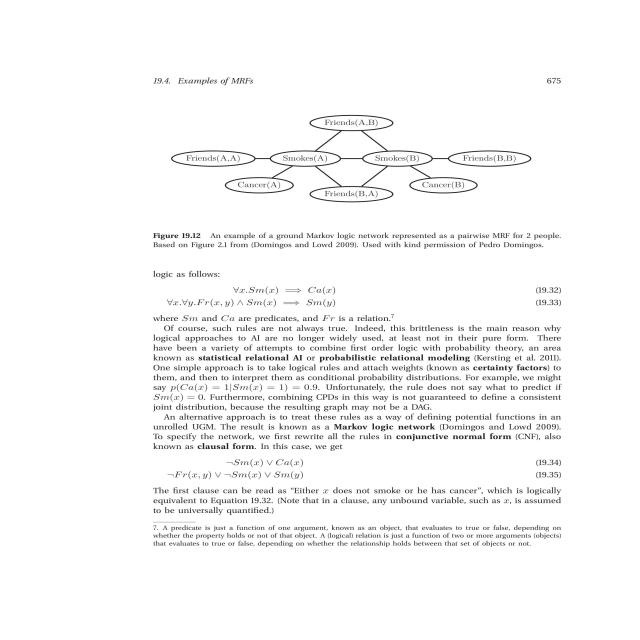diagram: (123, 89, 578, 267)
